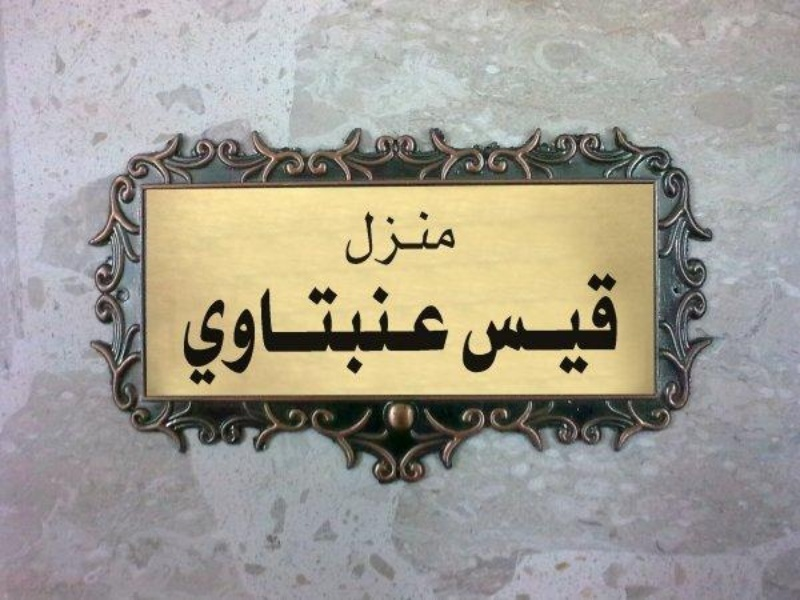text: (481, 271, 496, 379), (497, 271, 512, 379), (513, 271, 528, 379), (529, 271, 544, 379), (545, 271, 560, 379), (561, 271, 576, 379), (577, 271, 592, 379), (593, 271, 608, 379), (193, 283, 208, 387), (209, 283, 224, 387), (225, 283, 240, 387), (241, 283, 256, 387), (257, 283, 272, 387), (273, 283, 288, 387), (289, 283, 304, 387), (305, 283, 320, 387), (321, 283, 336, 387), (337, 283, 352, 387), (353, 283, 368, 387), (369, 283, 384, 387), (385, 283, 400, 387), (401, 283, 416, 387), (417, 283, 432, 387), (433, 283, 448, 387), (609, 271, 622, 379), (182, 283, 192, 387), (353, 209, 368, 269), (369, 209, 384, 269), (385, 209, 400, 269), (401, 209, 416, 269), (417, 209, 432, 269), (433, 209, 448, 269), (473, 271, 480, 379), (449, 209, 459, 269), (349, 209, 352, 269), (449, 283, 450, 387)
